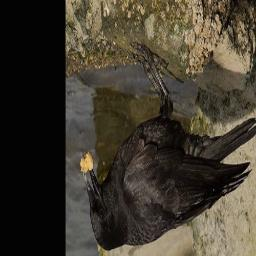Crow: (81, 43, 256, 253)
